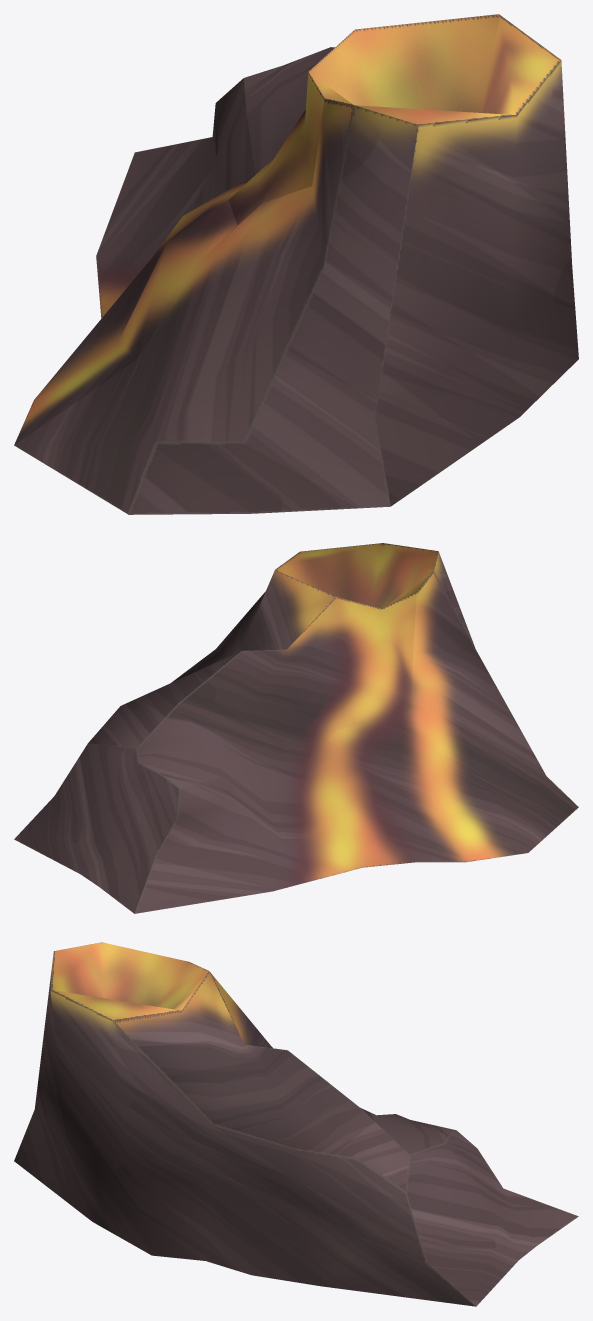
File: Volcano.FBX
3 views of the same model, one above another, from view 1: azimuth 30°, elevation 25°; view 2: azimuth 150°, elevation 25°; view 3: azimuth 270°, elevation 25° (orthographic). The views are drawn at different scales.
Visible parts, largest first — view 1: Volcano; view 2: Volcano; view 3: Volcano.
Boxes of the visible parts, left/top/right/bottom form: Volcano: left=14, top=14, right=578, bottom=514; Volcano: left=14, top=543, right=578, bottom=913; Volcano: left=14, top=942, right=578, bottom=1306.
Bounding box in the file's own units: 179 × 88.22 × 198.
